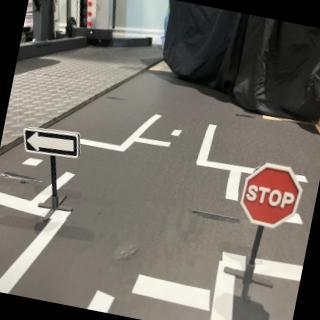sign_oneway_left: (21, 122, 87, 164)
sign_stop: (239, 160, 309, 232)
